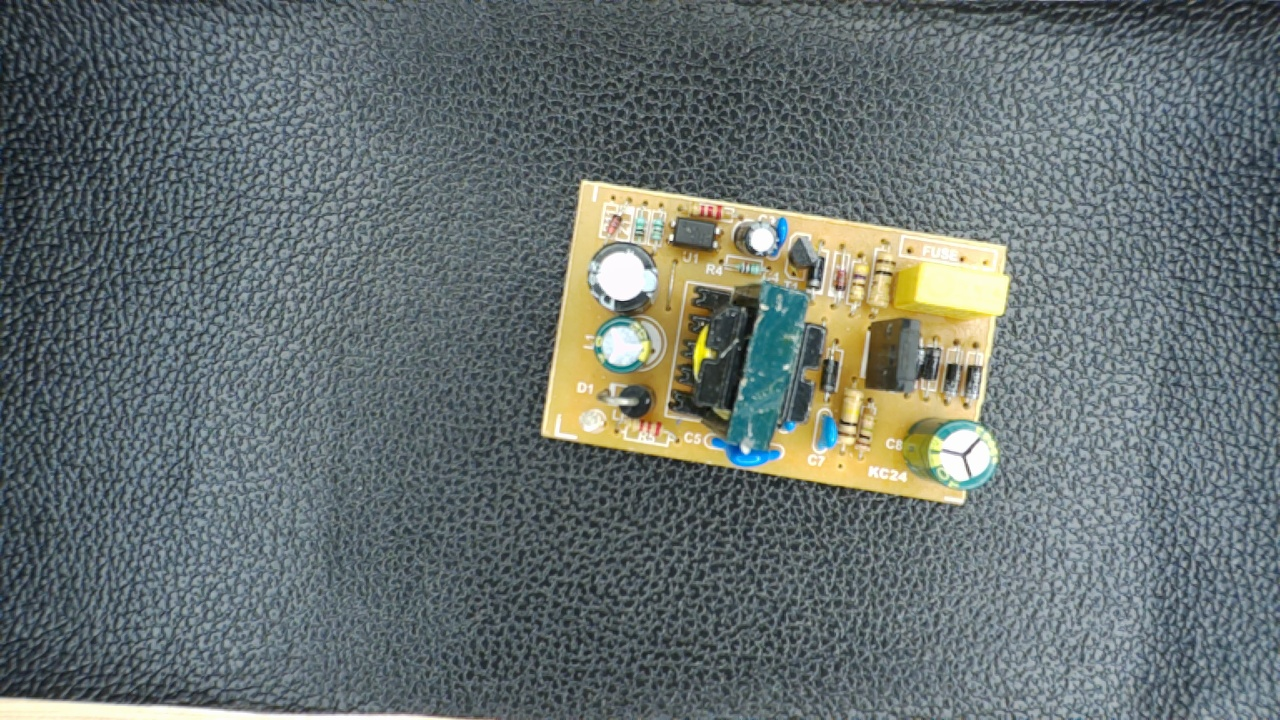hv_capacitor: (905, 419, 998, 491)
mov: (704, 437, 786, 468)
optocoupler: (666, 215, 725, 251)
